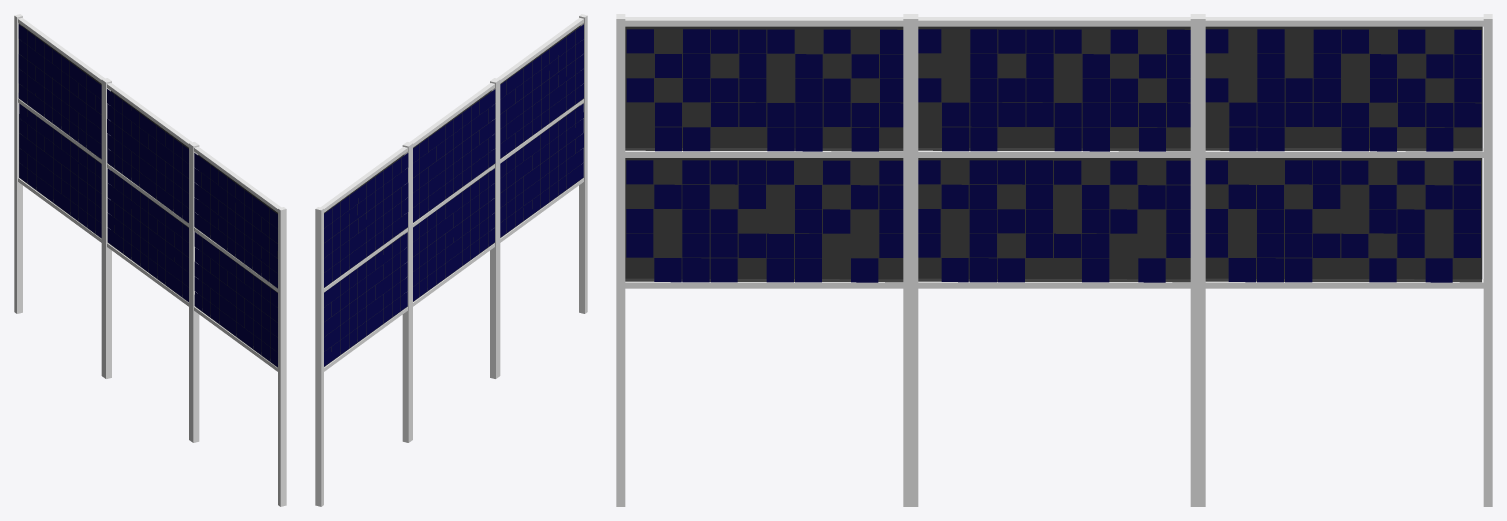
File: w-sun-panel2.glb
The picture shows the model from 3 angles, left to right: view 1: azimuth 30°, elevation 25°; view 2: azimuth 150°, elevation 25°; view 3: azimuth 270°, elevation 25°; orthographic projection. The views are drawn at different scales.
Parts seen in each view (by area): view 1: 立方体.002, 立方体.003, 立方体.001; view 2: 立方体.002, 立方体.003, 立方体.001; view 3: 立方体.002, 立方体.003, 立方体.001.
Part boxes in pixels (x1=…): 立方体.002: x1=14, y1=14, x2=111, y2=378; 立方体.003: x1=189, y1=142, x2=286, y2=506; 立方体.001: x1=101, y1=78, x2=199, y2=442; 立方体.002: x1=315, y1=142, x2=412, y2=506; 立方体.003: x1=490, y1=14, x2=587, y2=378; 立方体.001: x1=402, y1=78, x2=500, y2=442; 立方体.002: x1=1190, y1=14, x2=1492, y2=506; 立方体.003: x1=616, y1=14, x2=918, y2=506; 立方体.001: x1=903, y1=14, x2=1205, y2=506.
Bounding box in the file's own units: 0.2 × 9.38 × 15.26.
